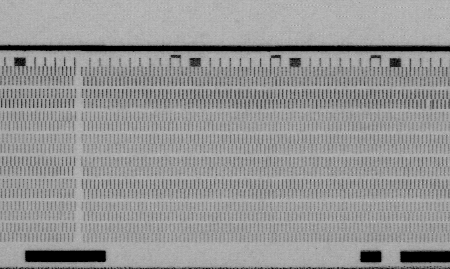Oblique printing: (424, 99, 435, 112)
